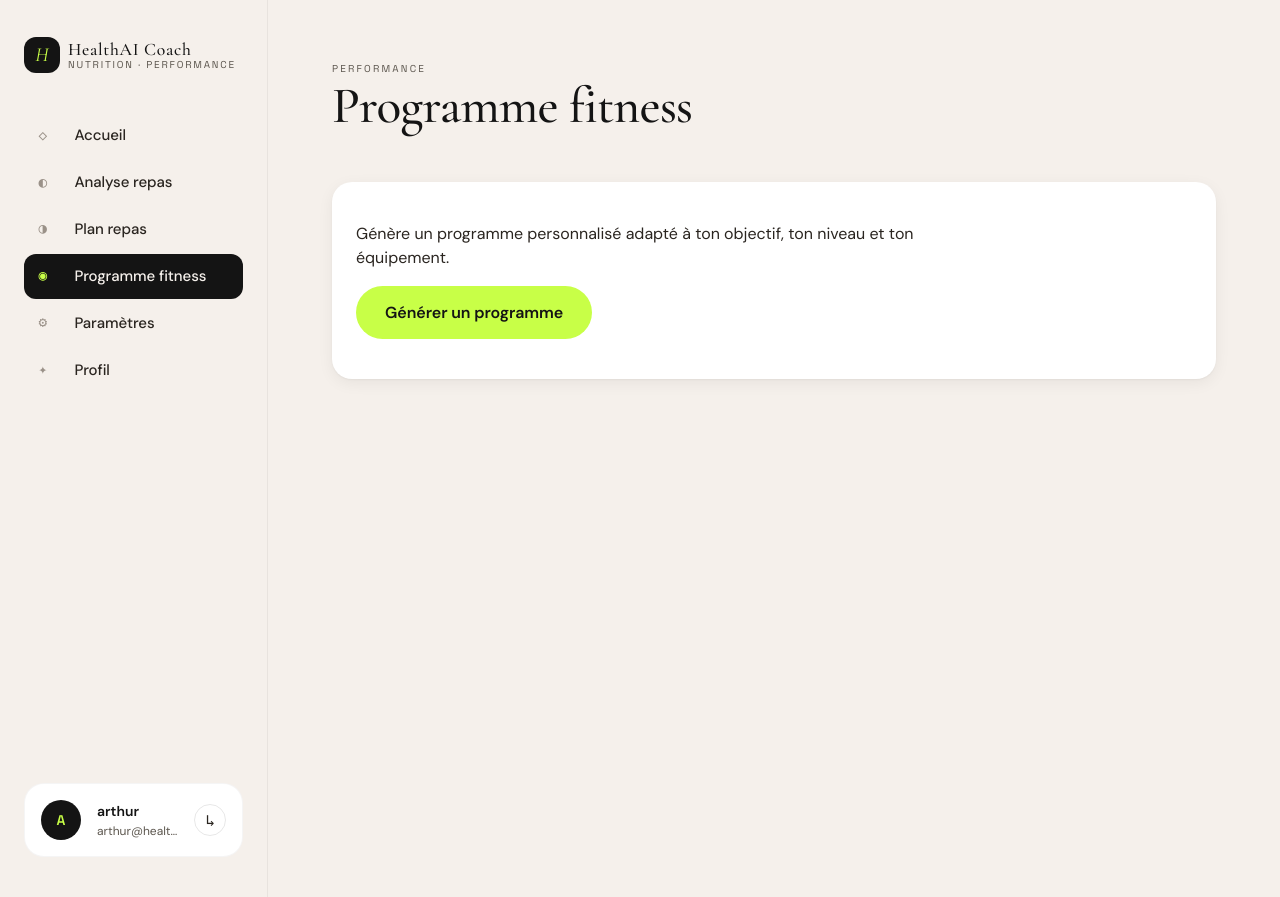
Test case: FitnessProgramView › feedback flow › submitting the form PUTs to /api/v1/programs/{programId}/feedback and shows a confirmation banner
Click the button with test id "generate-program-cta": (474, 312) [356, 286, 592, 339]
(page scrolled)
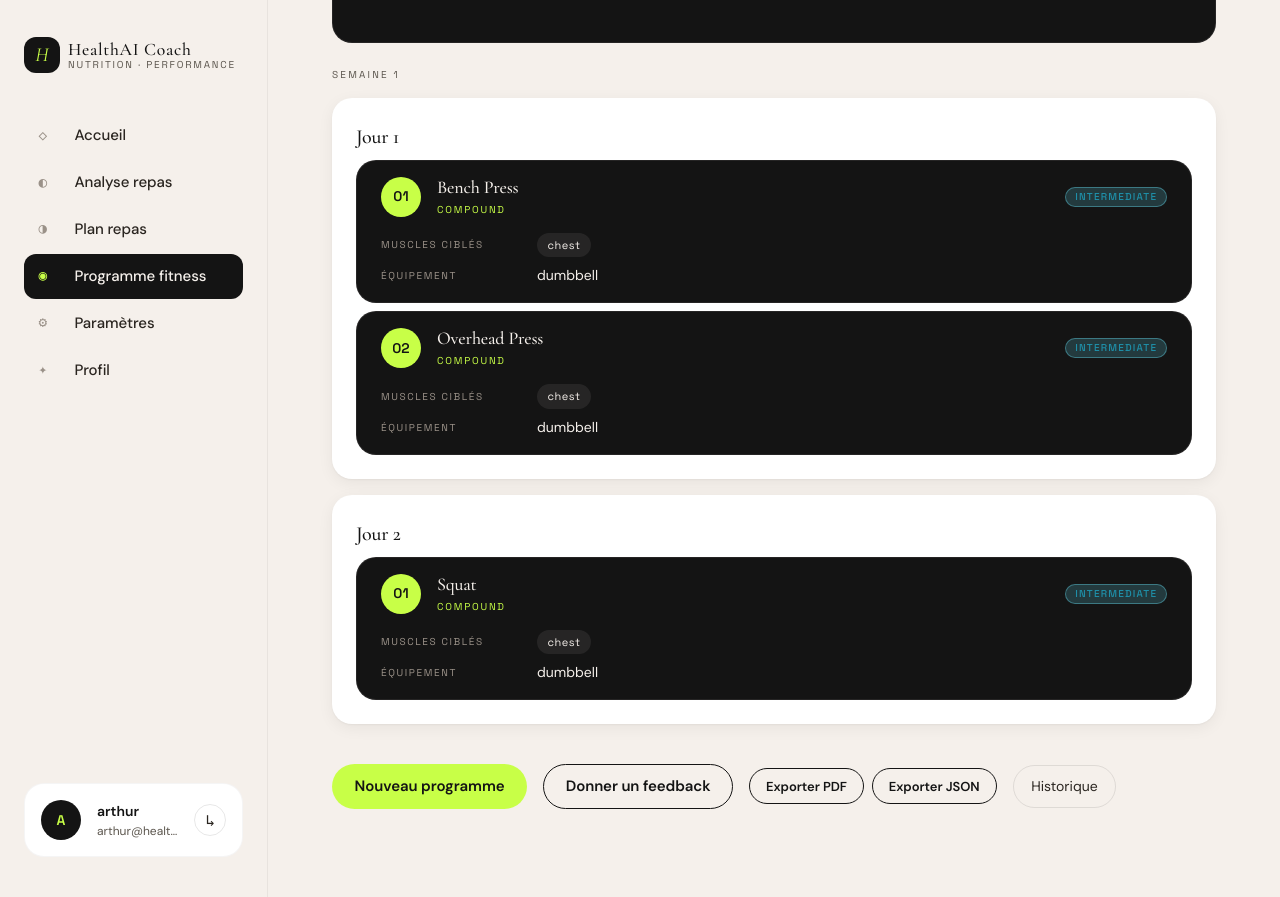
Click the button with test id "program-feedback-cta": (638, 786) [543, 764, 733, 809]
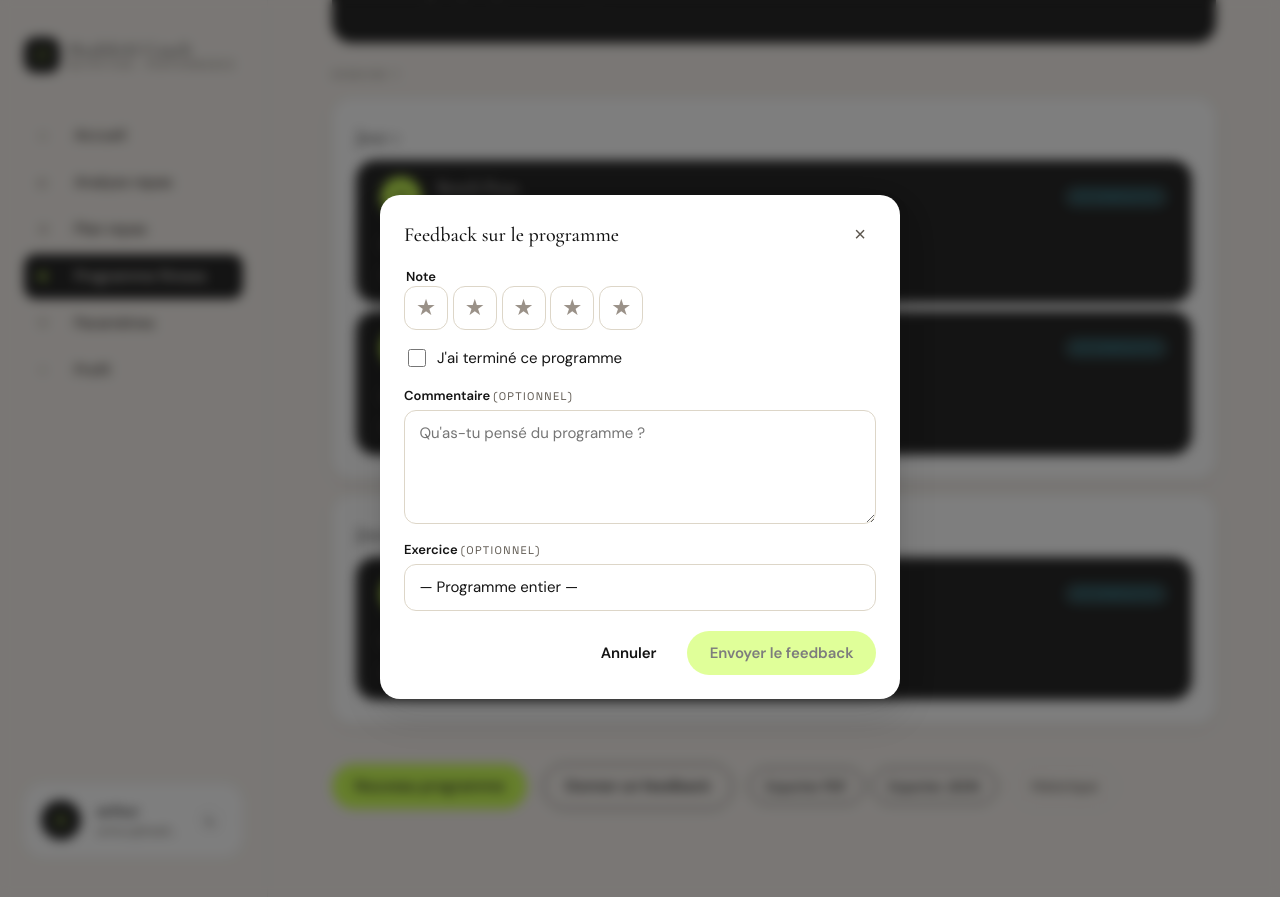
Click the radio button with test id "feedback-rating-4": (572, 308) [550, 286, 594, 330]
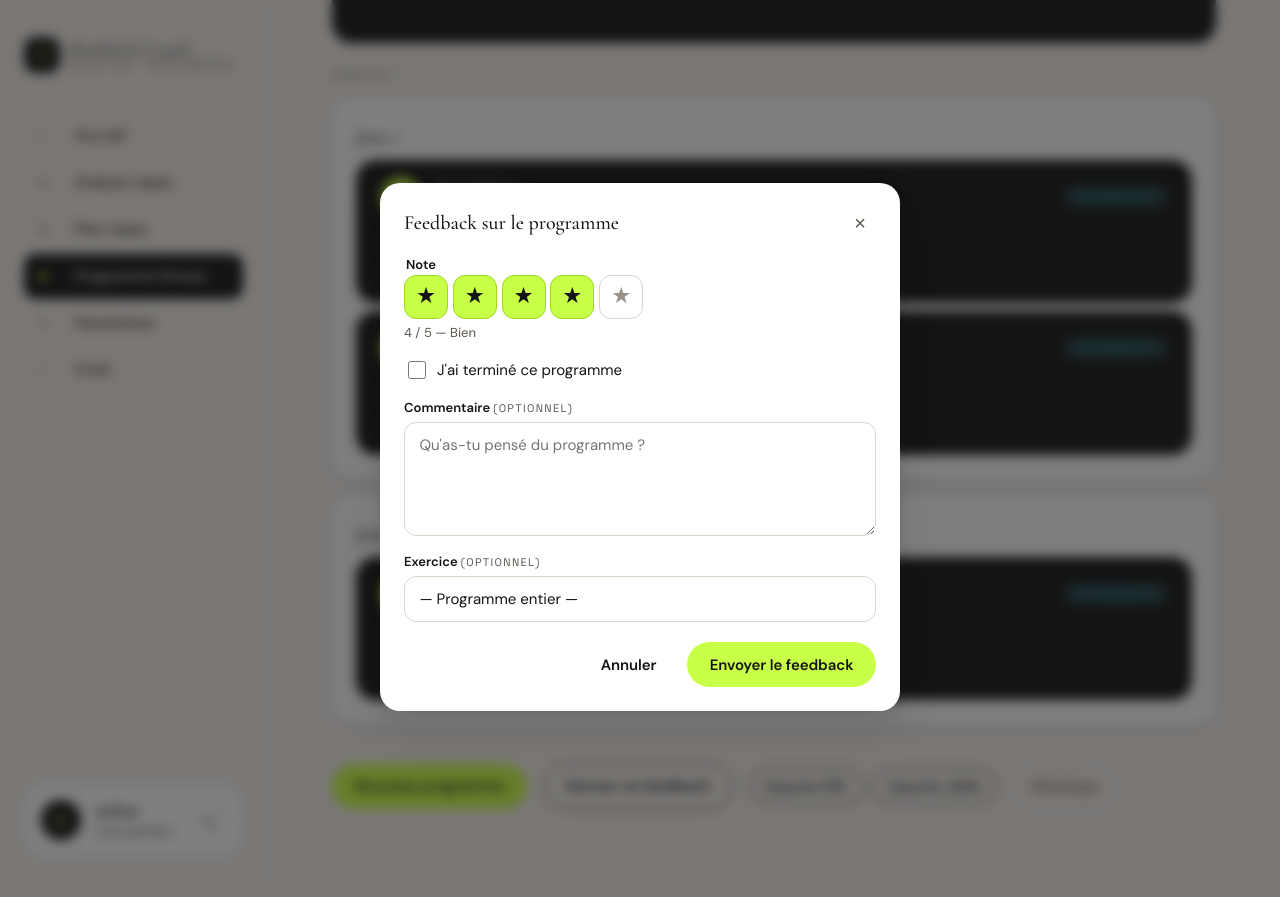
Click the checkbox with test id "feedback-completed": (417, 370) [408, 361, 426, 379]
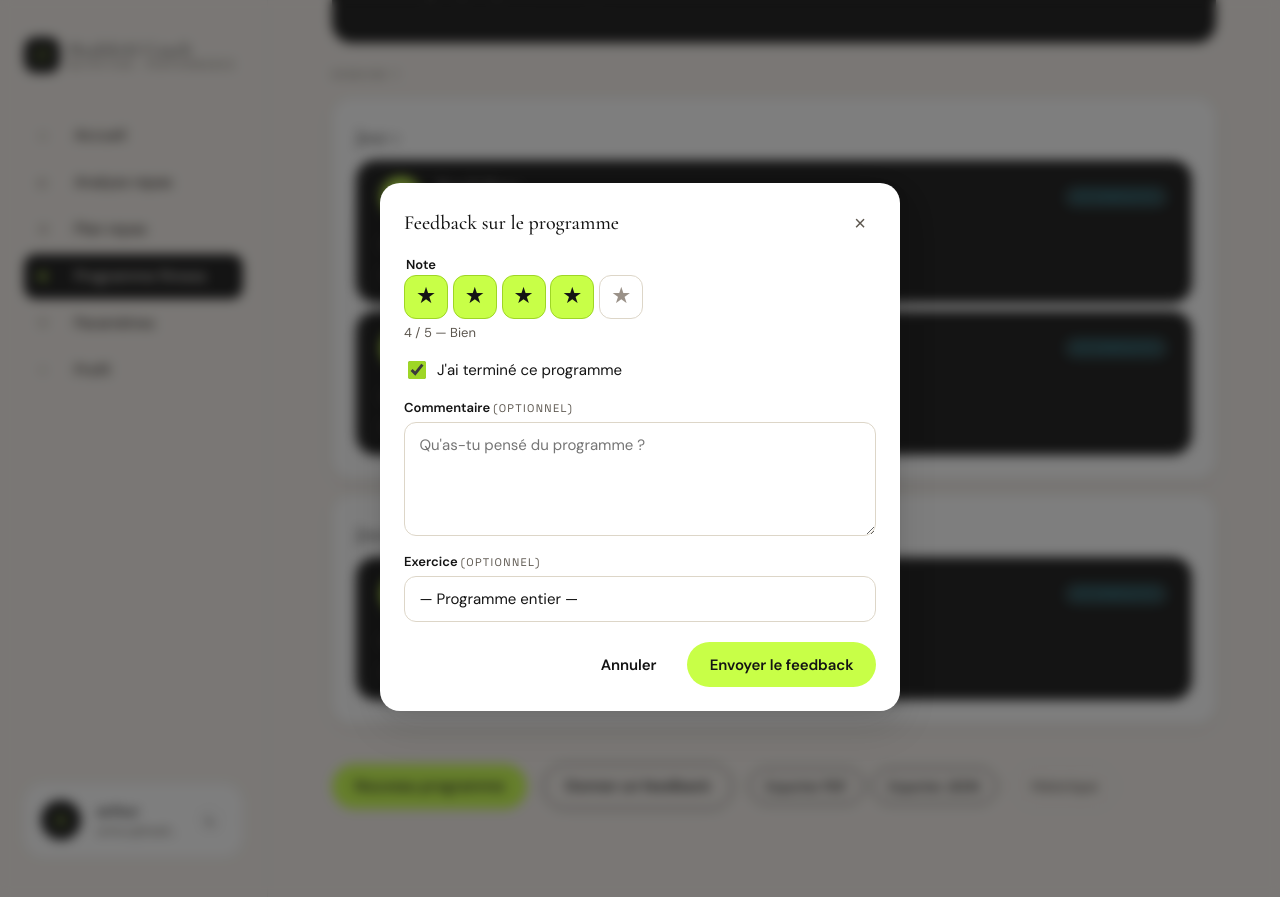
Submit the form with test id "feedback-form", box [404, 255, 876, 687]
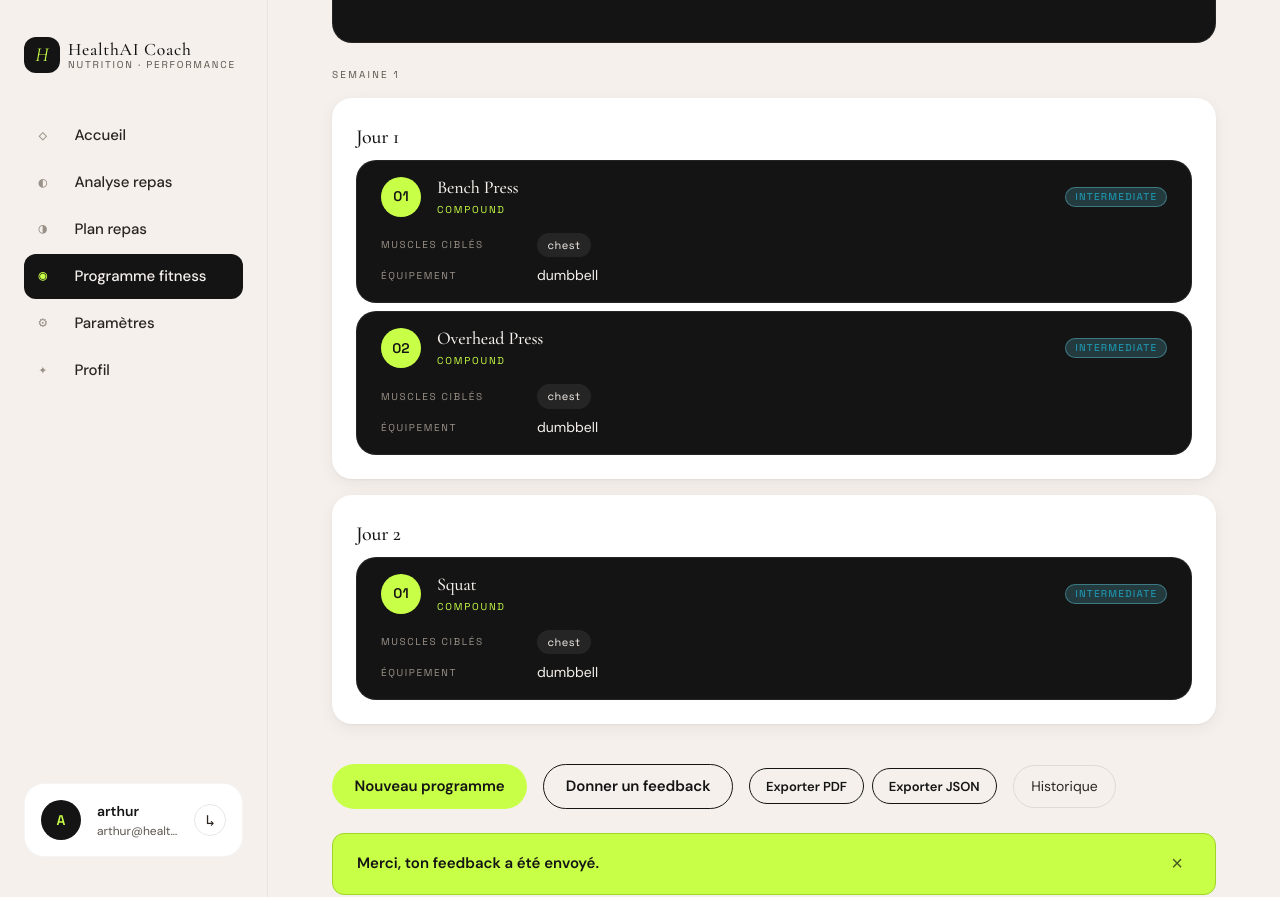
expect the message "Merci, ton feedback a été envoyé. ×" is shown: met, box [332, 833, 1216, 895]
expect the message with test id "feedback-success" reads "Merci, ton feedback a été envoyé. ×": met, box [357, 853, 599, 873]
